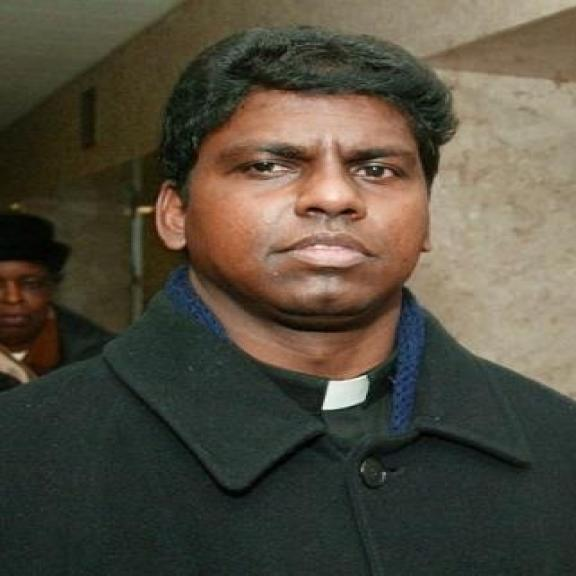face: (148, 41, 450, 334), (0, 251, 61, 350)
